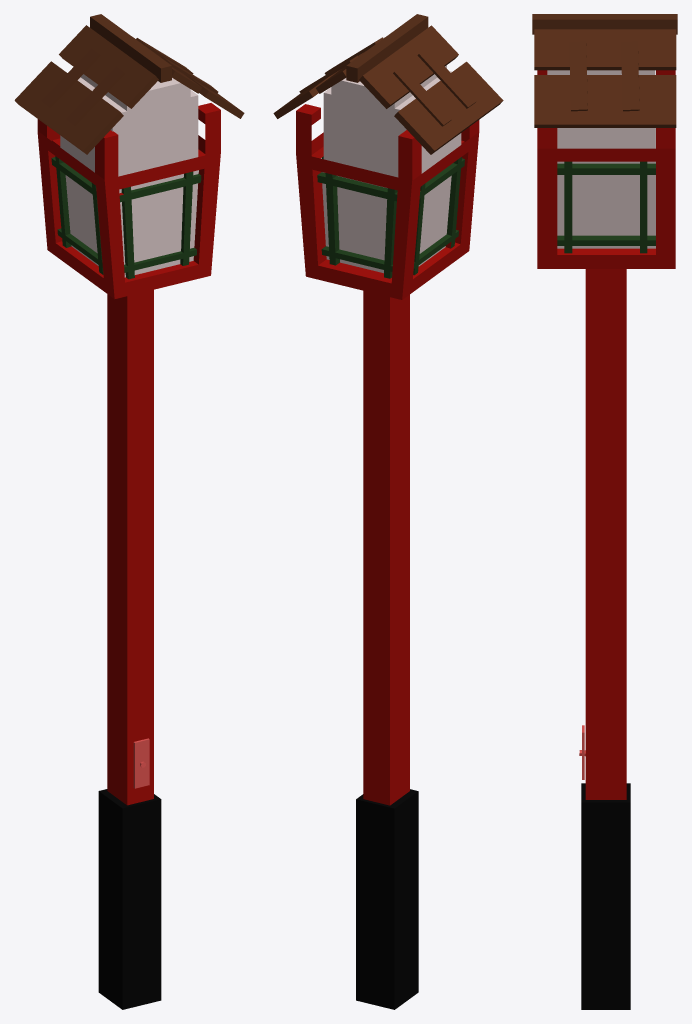
Rendered from lamp_6.glb.
The picture shows the model from 3 angles, left to right: view 1: azimuth 30°, elevation 25°; view 2: azimuth 150°, elevation 25°; view 3: azimuth 270°, elevation 25°; orthographic projection. The views are drawn at different scales.
Visible parts, largest first — view 1: Cube.002_6, Cube.001_5, Cube_2, Cube.003_0; view 2: Cube.002_6, Cube.001_5, Cube_2; view 3: Cube.002_6, Cube.001_5, Cube_2.
Part boxes in pixels (left/top/right/bottom): Cube.002_6: left=14, top=14, right=244, bottom=298; Cube.001_5: left=107, top=289, right=153, bottom=805; Cube_2: left=98, top=789, right=161, bottom=1009; Cube.003_0: left=133, top=738, right=149, bottom=788; Cube.002_6: left=273, top=14, right=503, bottom=299; Cube.001_5: left=363, top=290, right=409, bottom=805; Cube_2: left=356, top=789, right=418, bottom=1009; Cube.002_6: left=532, top=14, right=677, bottom=268; Cube.001_5: left=585, top=269, right=626, bottom=799; Cube_2: left=581, top=783, right=630, bottom=1009.
Bounding box in the file's own units: 1.17 × 6.61 × 0.8866.
